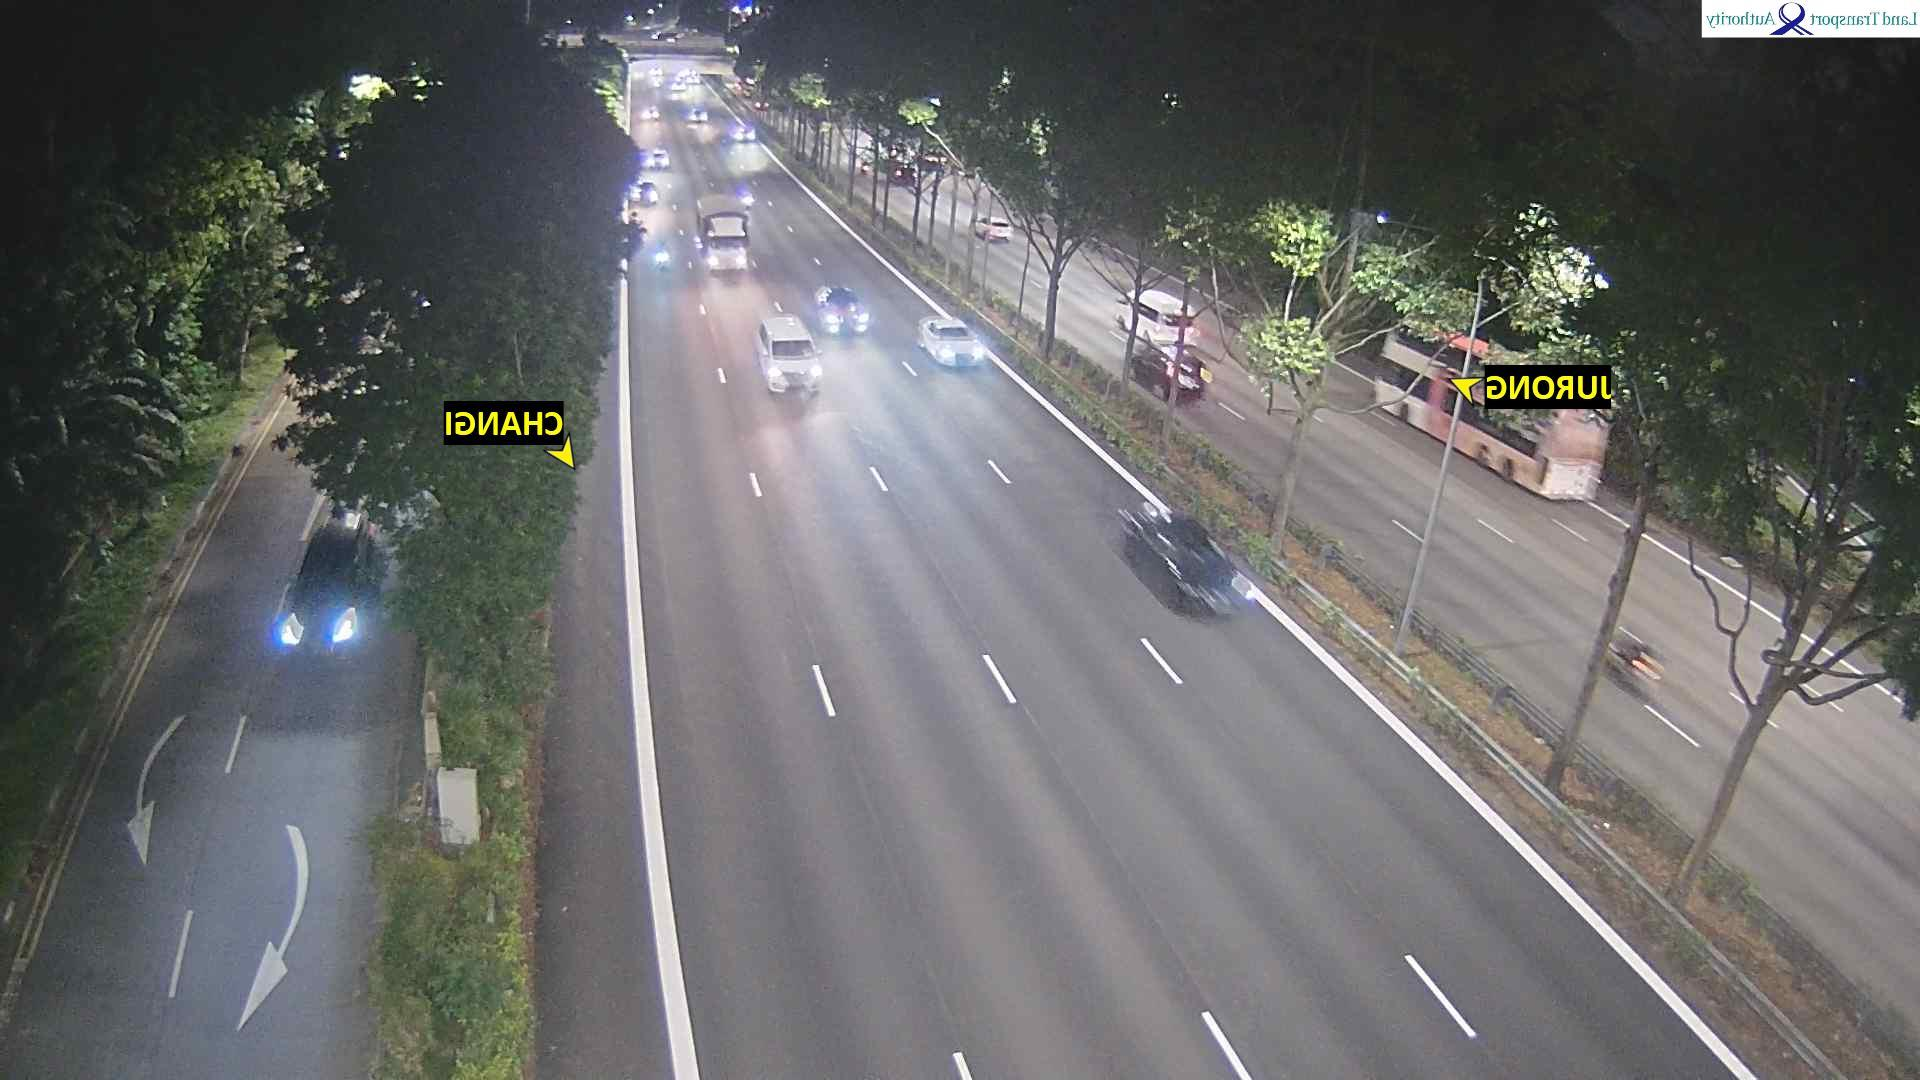incoming: (266, 572, 357, 670), (1154, 538, 1250, 620), (745, 343, 829, 396), (926, 328, 985, 372), (818, 294, 869, 338), (699, 235, 752, 274), (628, 185, 655, 207), (646, 152, 670, 169), (690, 109, 707, 127), (736, 129, 753, 144)
